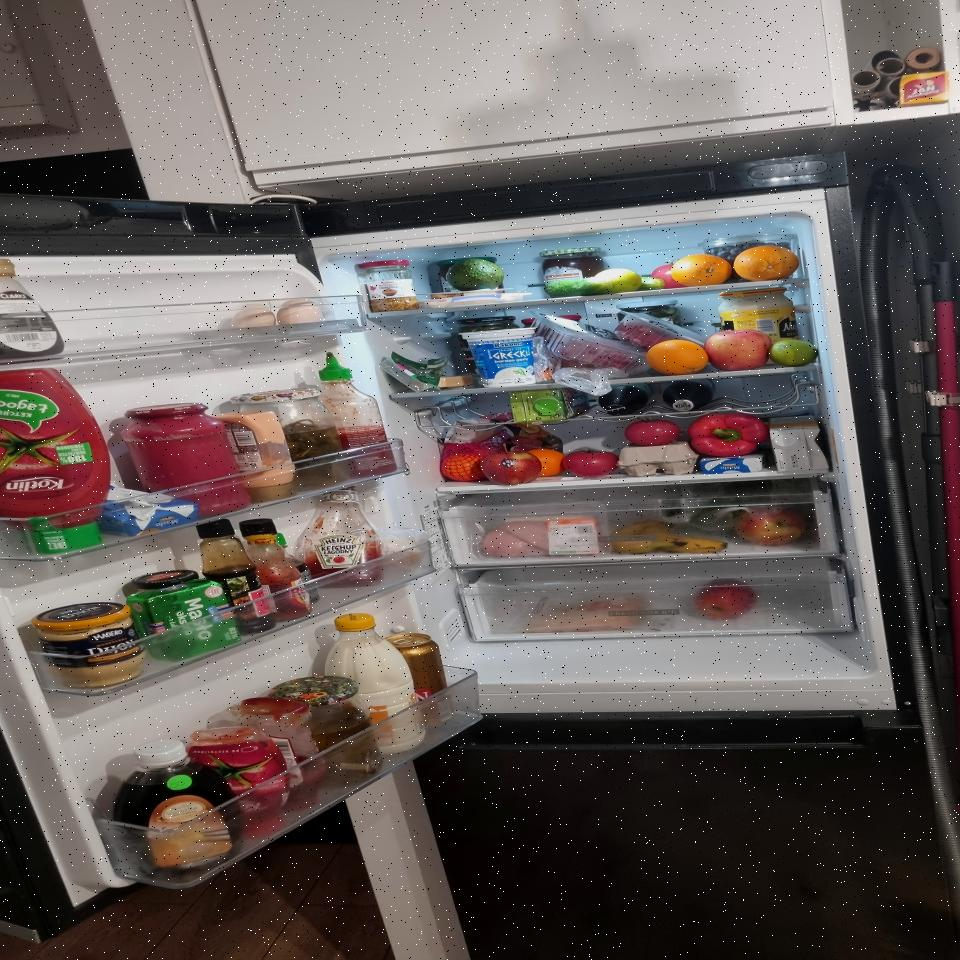Aguacate: (446, 258, 506, 290)
Carne pollo: (483, 518, 600, 558)
Huevos: (232, 299, 324, 331), (616, 442, 698, 476)
Leche: (325, 612, 426, 755), (768, 416, 830, 472)
Mantequilla: (128, 578, 242, 662), (98, 480, 200, 538), (698, 454, 764, 474)
Manzana: (704, 330, 772, 372), (480, 442, 543, 486), (733, 507, 804, 545), (694, 578, 756, 620)
Pepino: (546, 276, 614, 298), (637, 276, 665, 290)
Plátano: (610, 520, 728, 556)
Queso: (521, 594, 647, 634), (436, 375, 472, 387)
Tomate: (624, 416, 682, 446), (562, 448, 620, 476), (652, 259, 688, 289)
Yogur: (459, 328, 546, 388)
